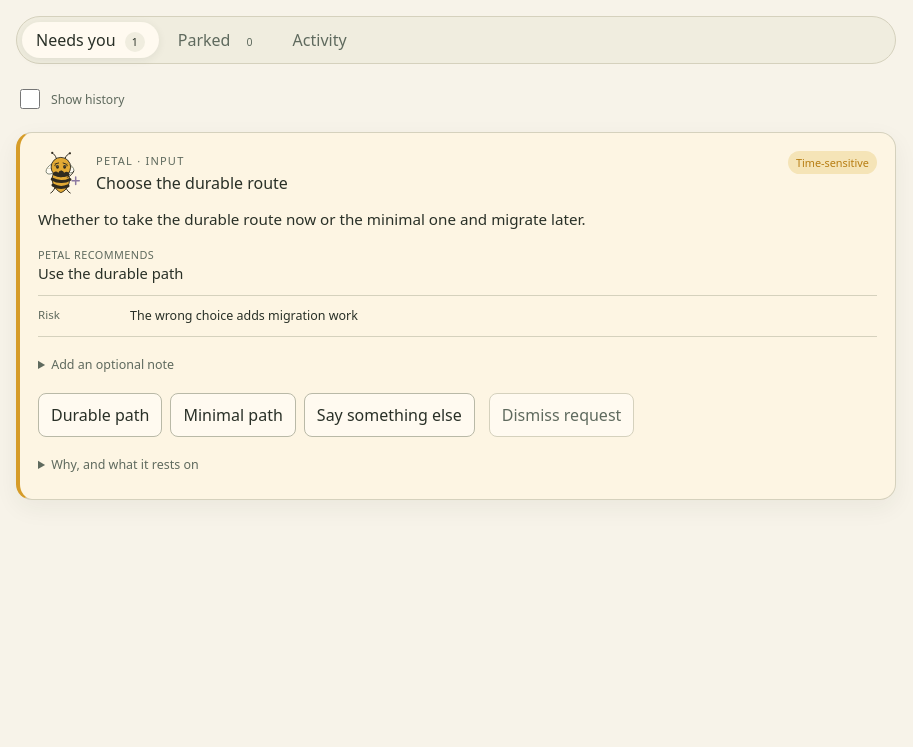
Test: a failed custom answer remains visible and can be retried without choosing a quick action
Click the button "Say something else" at (389, 415), box x1=304 y1=393 x2=475 y2=437
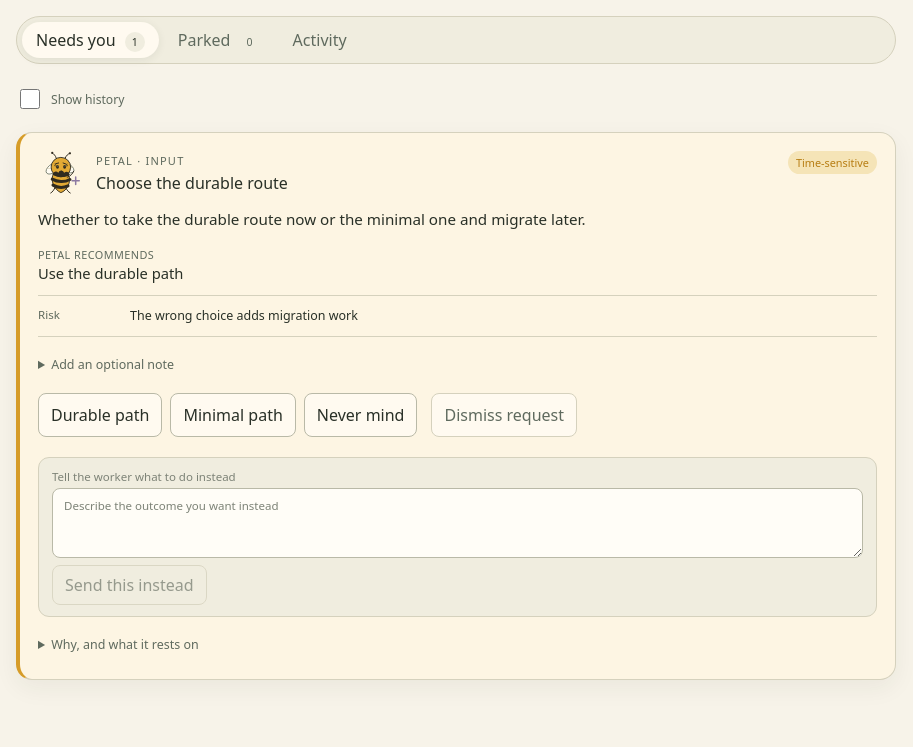
Type "Do neither; investigate the third route first." into the text box labelled "Tell the worker what to do instead" at (458, 523), box x1=52 y1=488 x2=863 y2=558
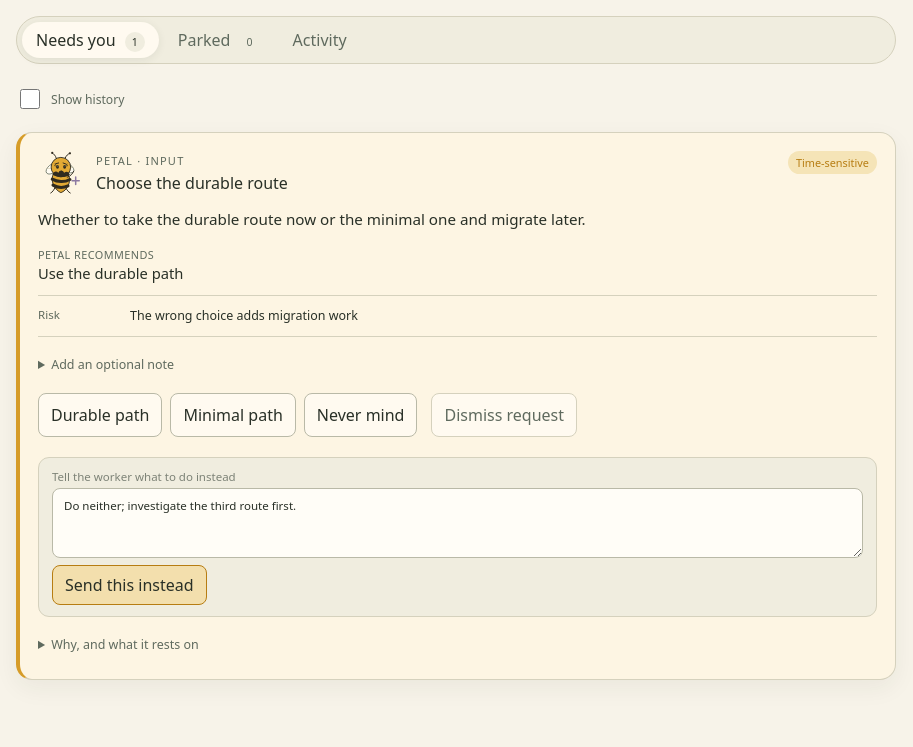
Click the button "Send this instead" at (129, 585), box x1=52 y1=565 x2=207 y2=605
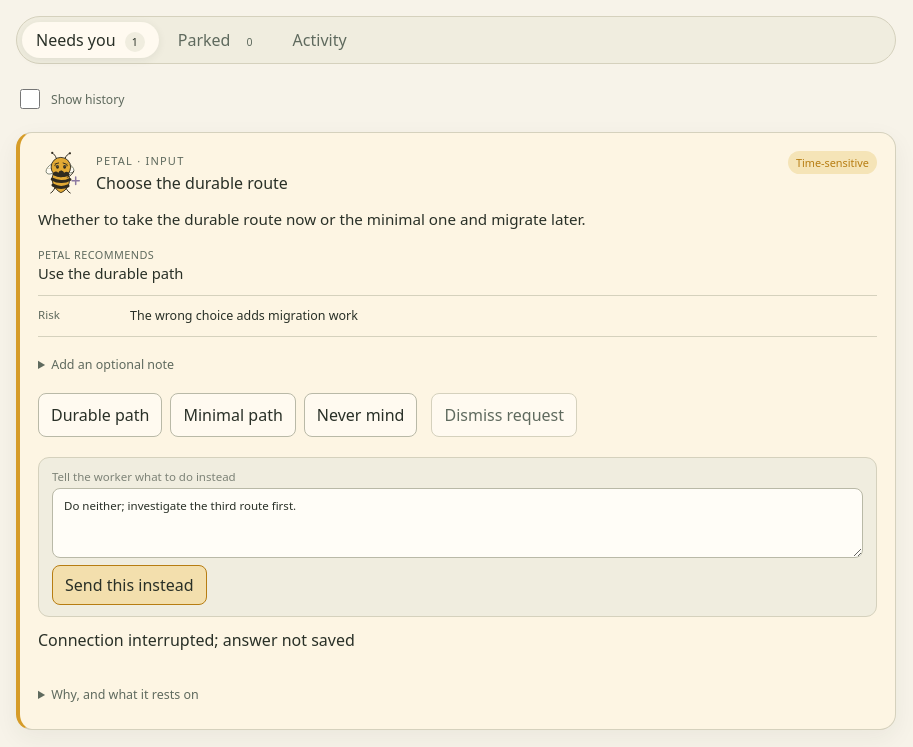
Check: the message shows "Connection interrupted", box x1=38 y1=629 x2=355 y2=651
Click the button "Send this instead" at (129, 585), box x1=52 y1=565 x2=207 y2=605
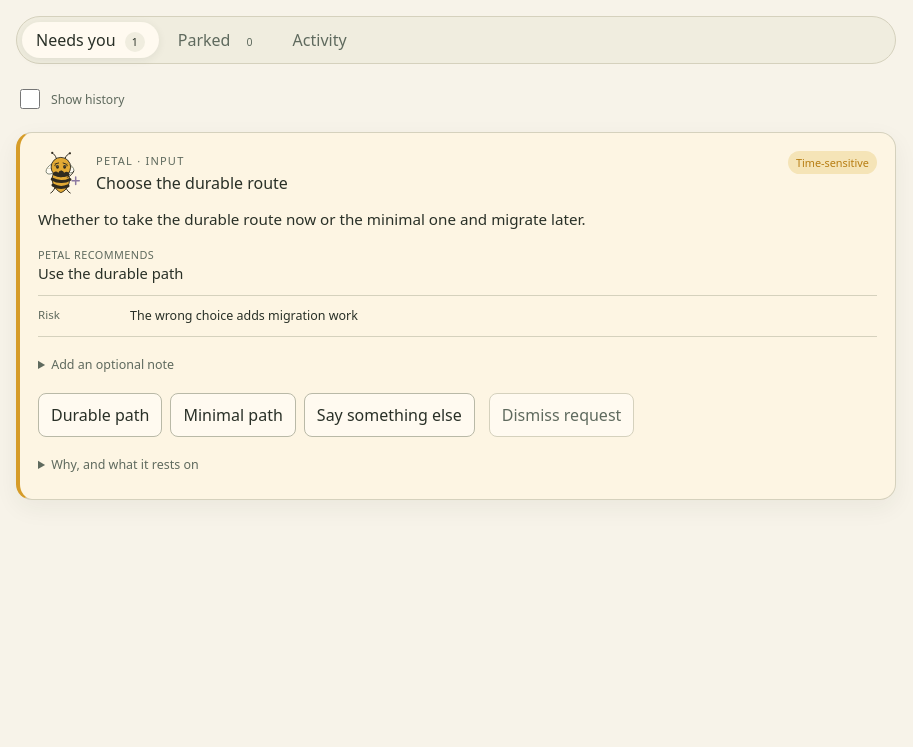
Check: the text labelled "Tell the worker what to do instead" is gone
